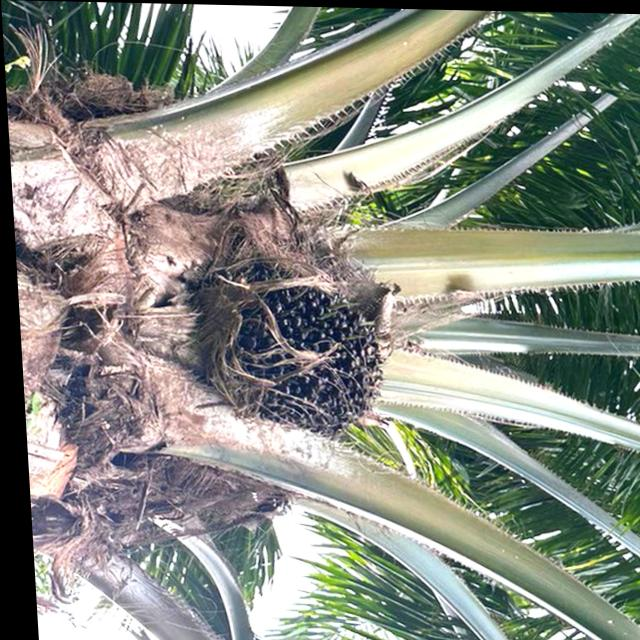unripe: (185, 256, 391, 441)
